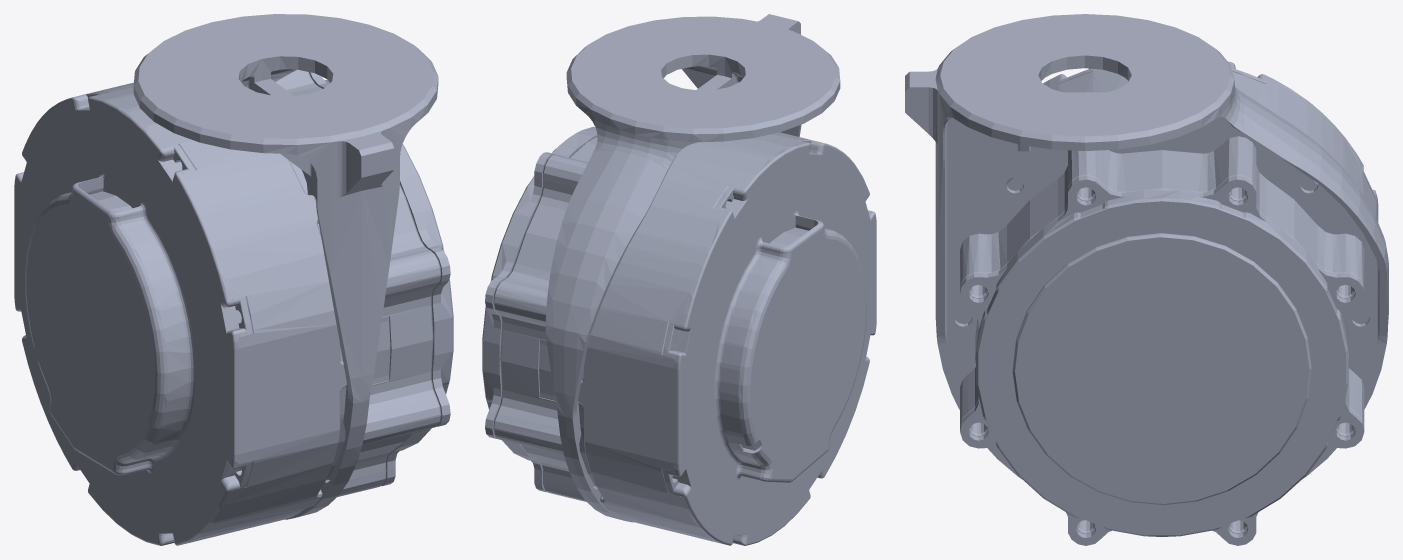
The model's file is right_shoulder_pitch_link.obj.
3 renders of one model, left to right at view 1: azimuth 30°, elevation 25°; view 2: azimuth 150°, elevation 25°; view 3: azimuth 270°, elevation 25°, orthographic. The views are drawn at different scales.
Visible parts, largest first — view 1: right_shoulder_pitch_link-mesh; view 2: right_shoulder_pitch_link-mesh; view 3: right_shoulder_pitch_link-mesh.
Boxes of the visible parts, x1,y1,x2,y2 form: right_shoulder_pitch_link-mesh: (14, 14, 453, 545); right_shoulder_pitch_link-mesh: (482, 14, 876, 545); right_shoulder_pitch_link-mesh: (905, 14, 1388, 545).
Size of the model in its own units: 0.0697 by 0.1049 by 0.1035.
